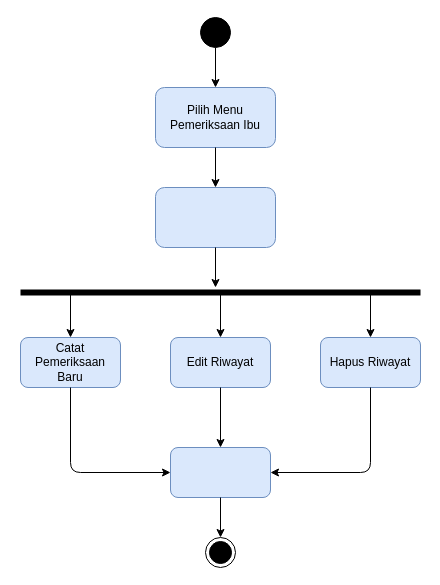
Image size: 440x585. Some labels were removed from this diagram. Each missing label, with the centre of its shape:
"Simpan ke DB" belongs at point (220, 472).
"Tampilkan Riwayat Pemeriksaan" belongs at point (215, 217).
